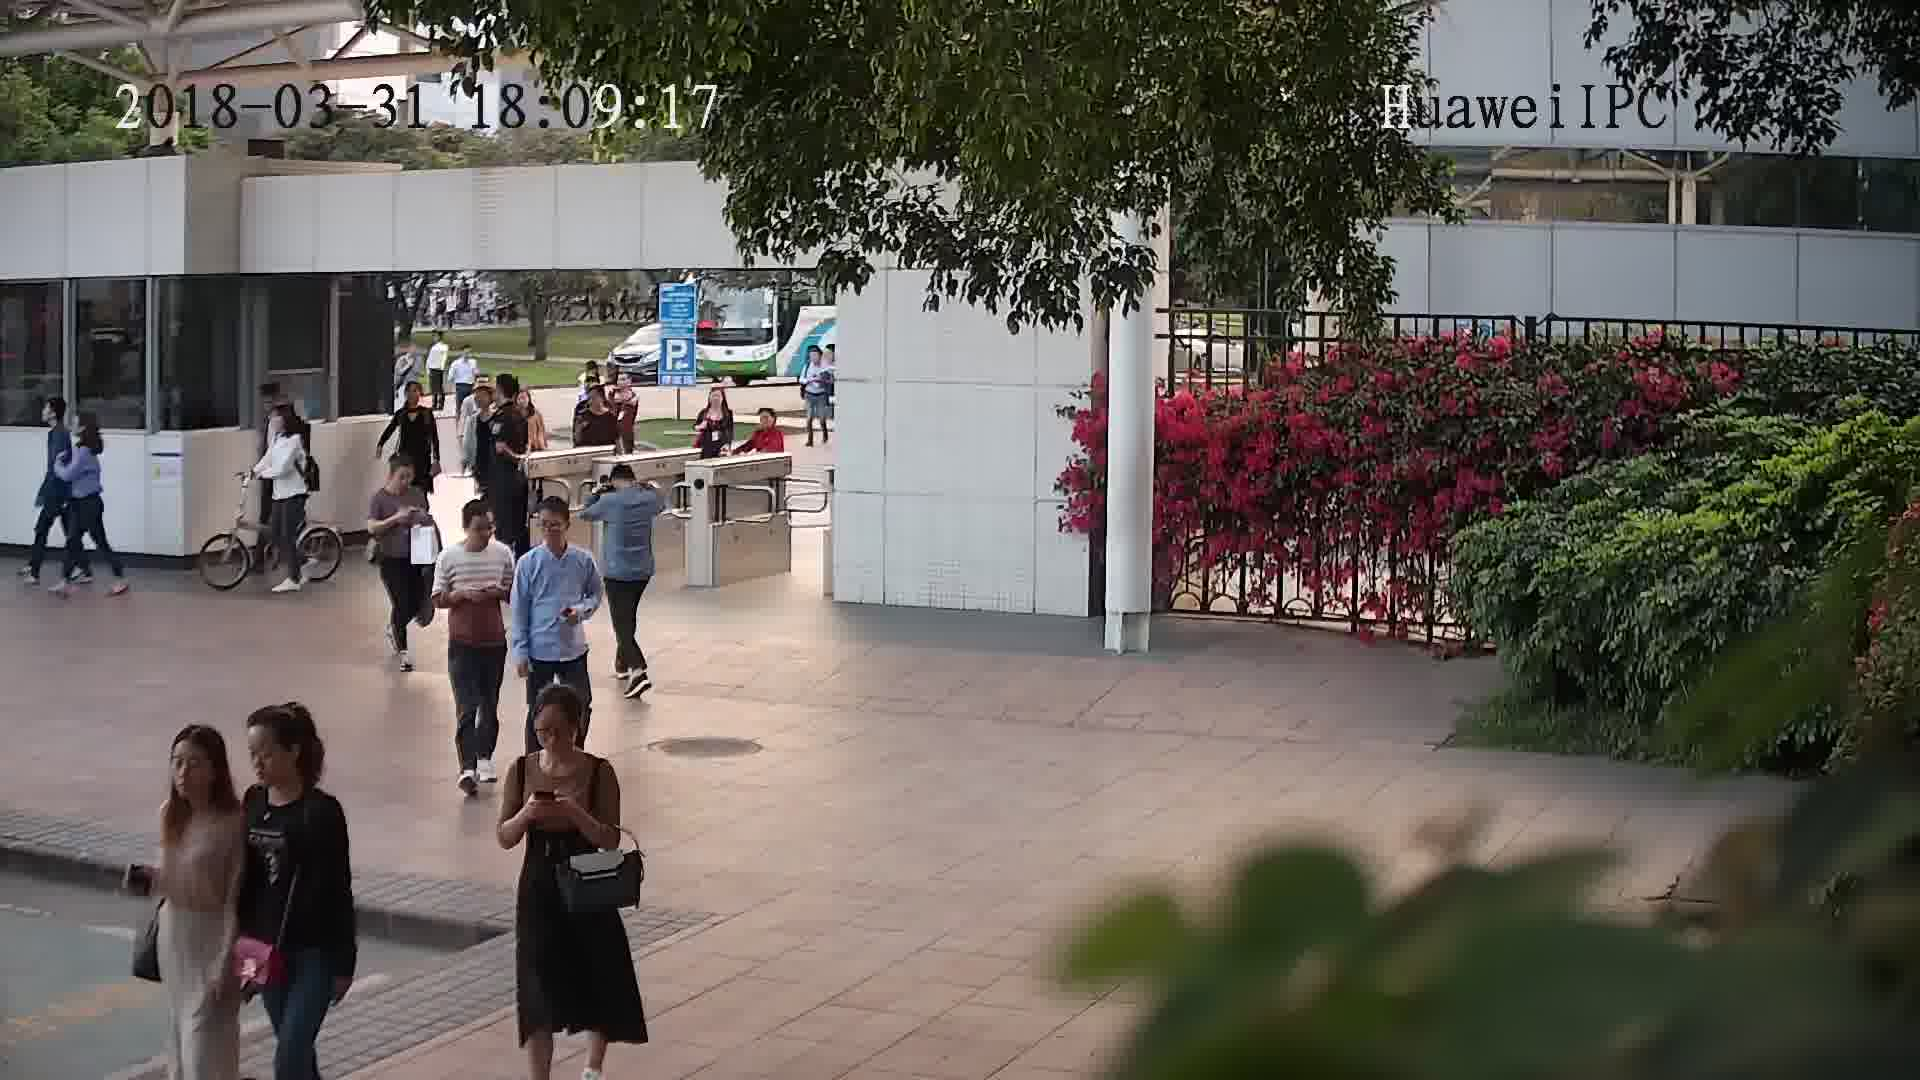face: (237, 724, 302, 789), (160, 737, 223, 800), (527, 701, 585, 758)
person: (230, 700, 347, 826), (502, 683, 623, 793), (151, 721, 249, 841), (518, 496, 595, 574), (444, 498, 519, 568), (599, 457, 662, 511), (374, 453, 431, 508), (264, 398, 313, 453), (70, 404, 112, 458), (494, 368, 539, 415), (396, 377, 445, 421), (695, 380, 739, 424), (43, 390, 76, 448), (463, 388, 503, 435), (580, 383, 623, 424), (748, 401, 789, 443), (516, 386, 551, 428), (610, 369, 642, 414), (799, 342, 832, 383), (448, 342, 485, 371), (427, 329, 453, 359)
